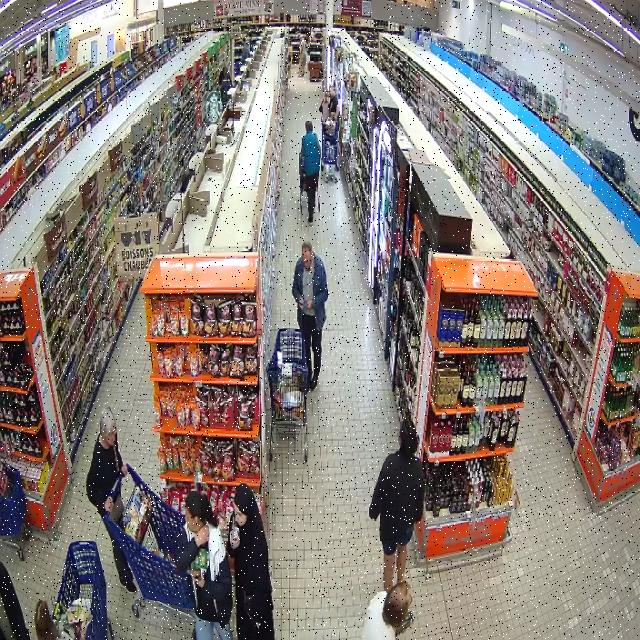article: (189, 549, 210, 575), (231, 527, 239, 538), (299, 301, 307, 308)
bags: (243, 595, 255, 622)
hands: (195, 526, 209, 546), (193, 572, 206, 588), (105, 497, 114, 513), (230, 535, 239, 550), (121, 464, 128, 476), (306, 299, 313, 308), (299, 296, 304, 305)
person: (369, 418, 425, 590), (175, 490, 233, 639), (227, 483, 275, 639), (292, 242, 327, 389), (86, 407, 127, 528), (362, 581, 411, 639), (105, 526, 135, 592), (302, 120, 320, 224)
